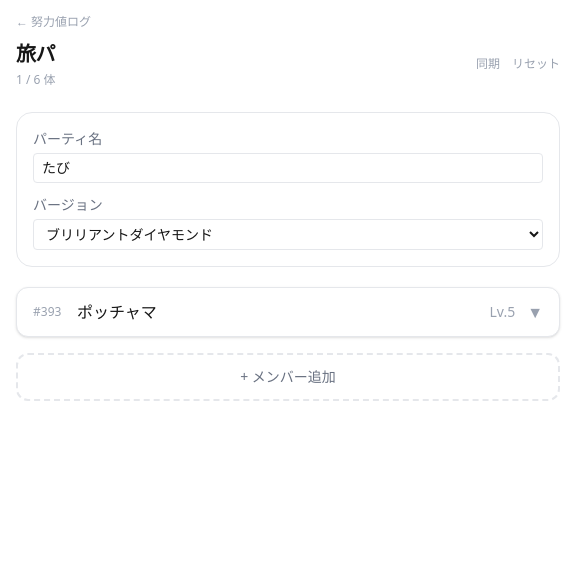
Test: PartyPage (/) integration › reset on non-empty party: confirm=false keeps party, confirm=true clears it
The image size is (578, 568).
Click the button "リセット": (536, 64) [512,56,560,72]
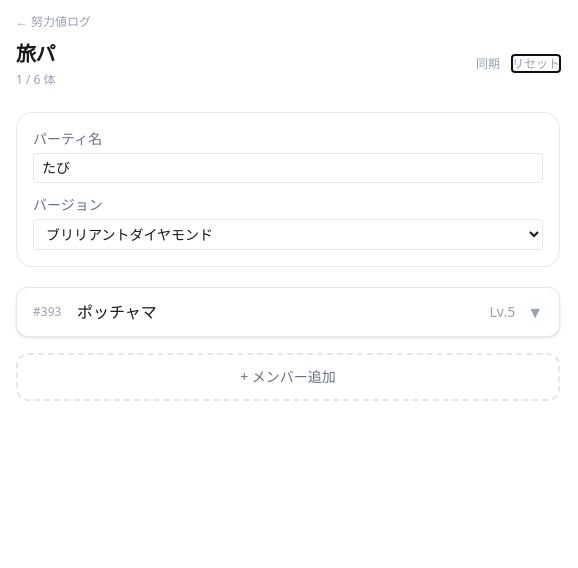
Expected: the text "ポッチャマ" is shown, [77,301,157,323]
Click the button "リセット": (536, 64) [512,56,560,72]
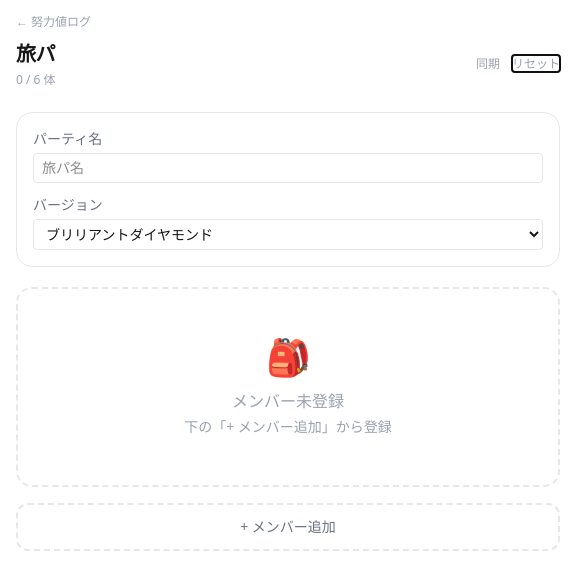
Now the text "メンバー未登録" is shown, box [232,390,344,412]
Now the text "0 / 6 体" is shown, box [16,72,56,88]
